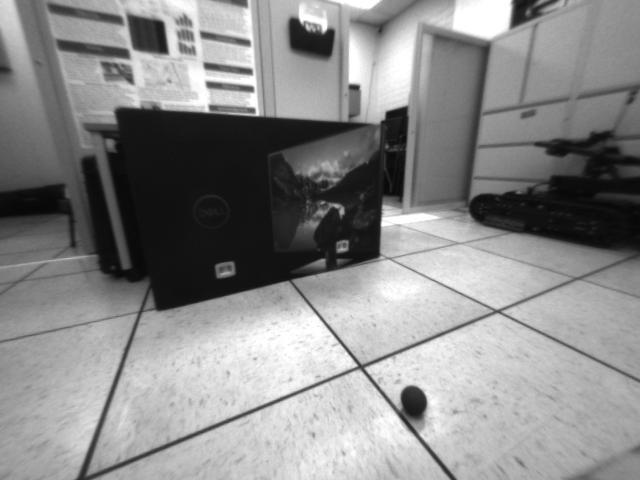dogtoy: (395, 377, 432, 421)
